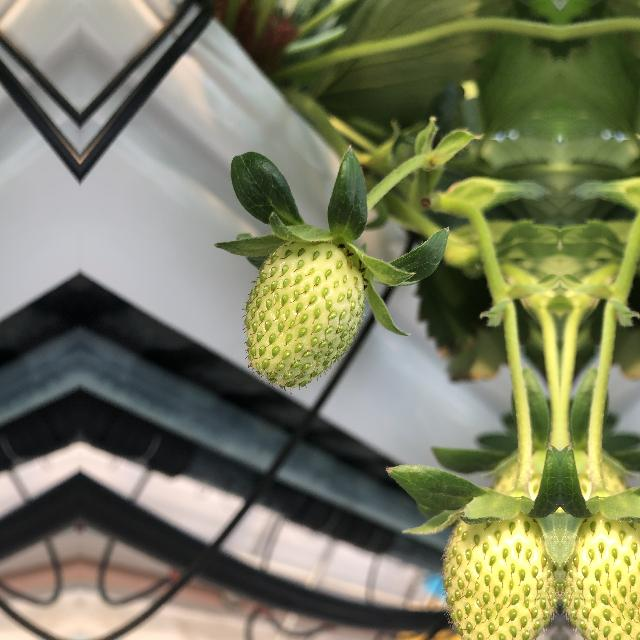Health_25: (242, 230, 371, 390), (436, 499, 560, 639), (560, 499, 640, 639)
